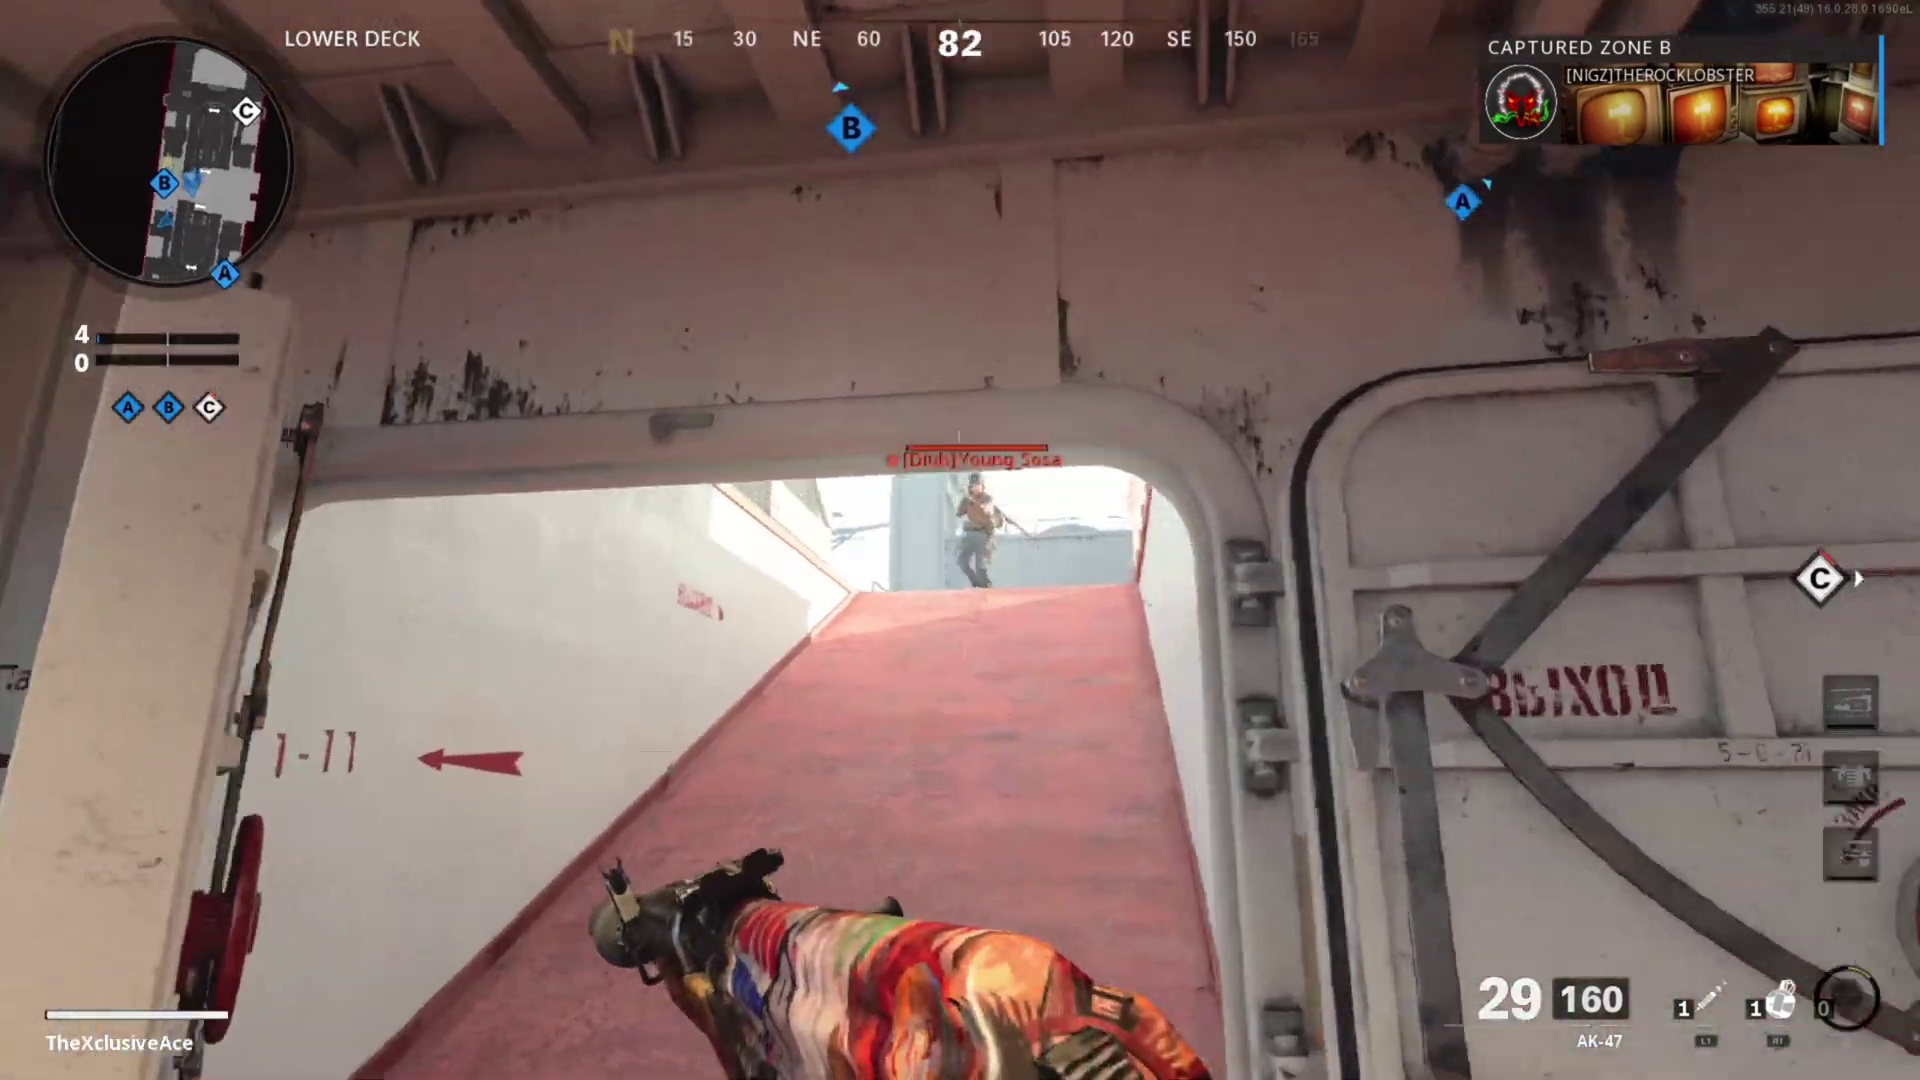head: (965, 472, 987, 501)
person: (950, 472, 1000, 583)
